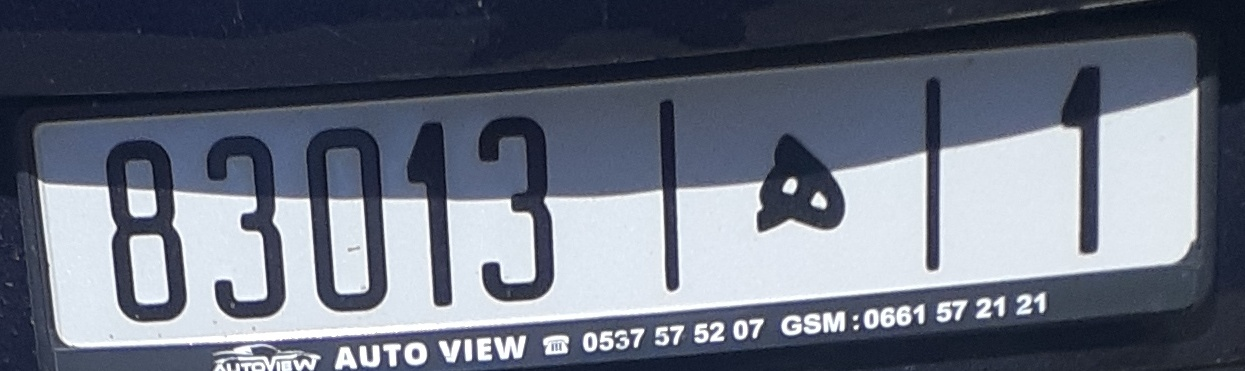0: (297, 115, 389, 320)
1: (1036, 54, 1135, 258), (397, 102, 461, 320)
3: (465, 106, 573, 309), (196, 122, 286, 337)
8: (83, 135, 196, 337)
h: (725, 100, 869, 264)
